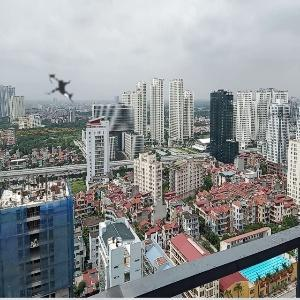drone: (29, 58, 95, 124)
